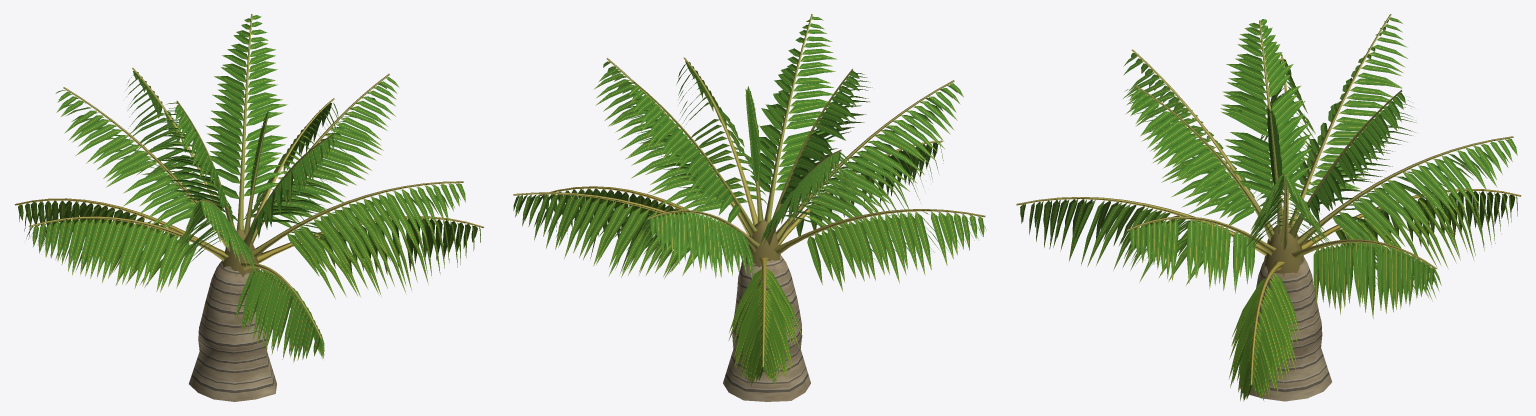
3 views of the same model, side by side, from view 1: azimuth 30°, elevation 25°; view 2: azimuth 150°, elevation 25°; view 3: azimuth 270°, elevation 25° (orthographic). The views are drawn at different scales.
Visible parts, largest first — view 1: fronds, trunk, crown_husk; view 2: fronds, trunk, crown_husk; view 3: fronds, trunk, crown_husk.
Part boxes in pixels (x1,y1,x2,y2): fronds: [14, 14, 484, 362]; trunk: [189, 260, 276, 401]; crown_husk: [222, 229, 259, 276]; fronds: [513, 14, 986, 386]; trunk: [723, 254, 810, 401]; crown_husk: [741, 220, 780, 267]; fronds: [1016, 14, 1521, 401]; trunk: [1243, 257, 1331, 401]; crown_husk: [1264, 224, 1303, 276].
Bounding box in the file's own units: 6.35 × 4.34 × 5.96.
3 materials, 3 textured.
